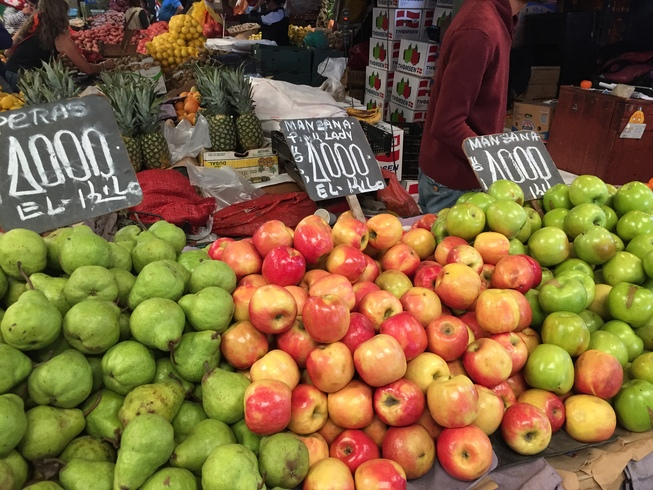precio: (1, 100, 138, 231), (281, 117, 390, 200), (460, 128, 566, 208)
